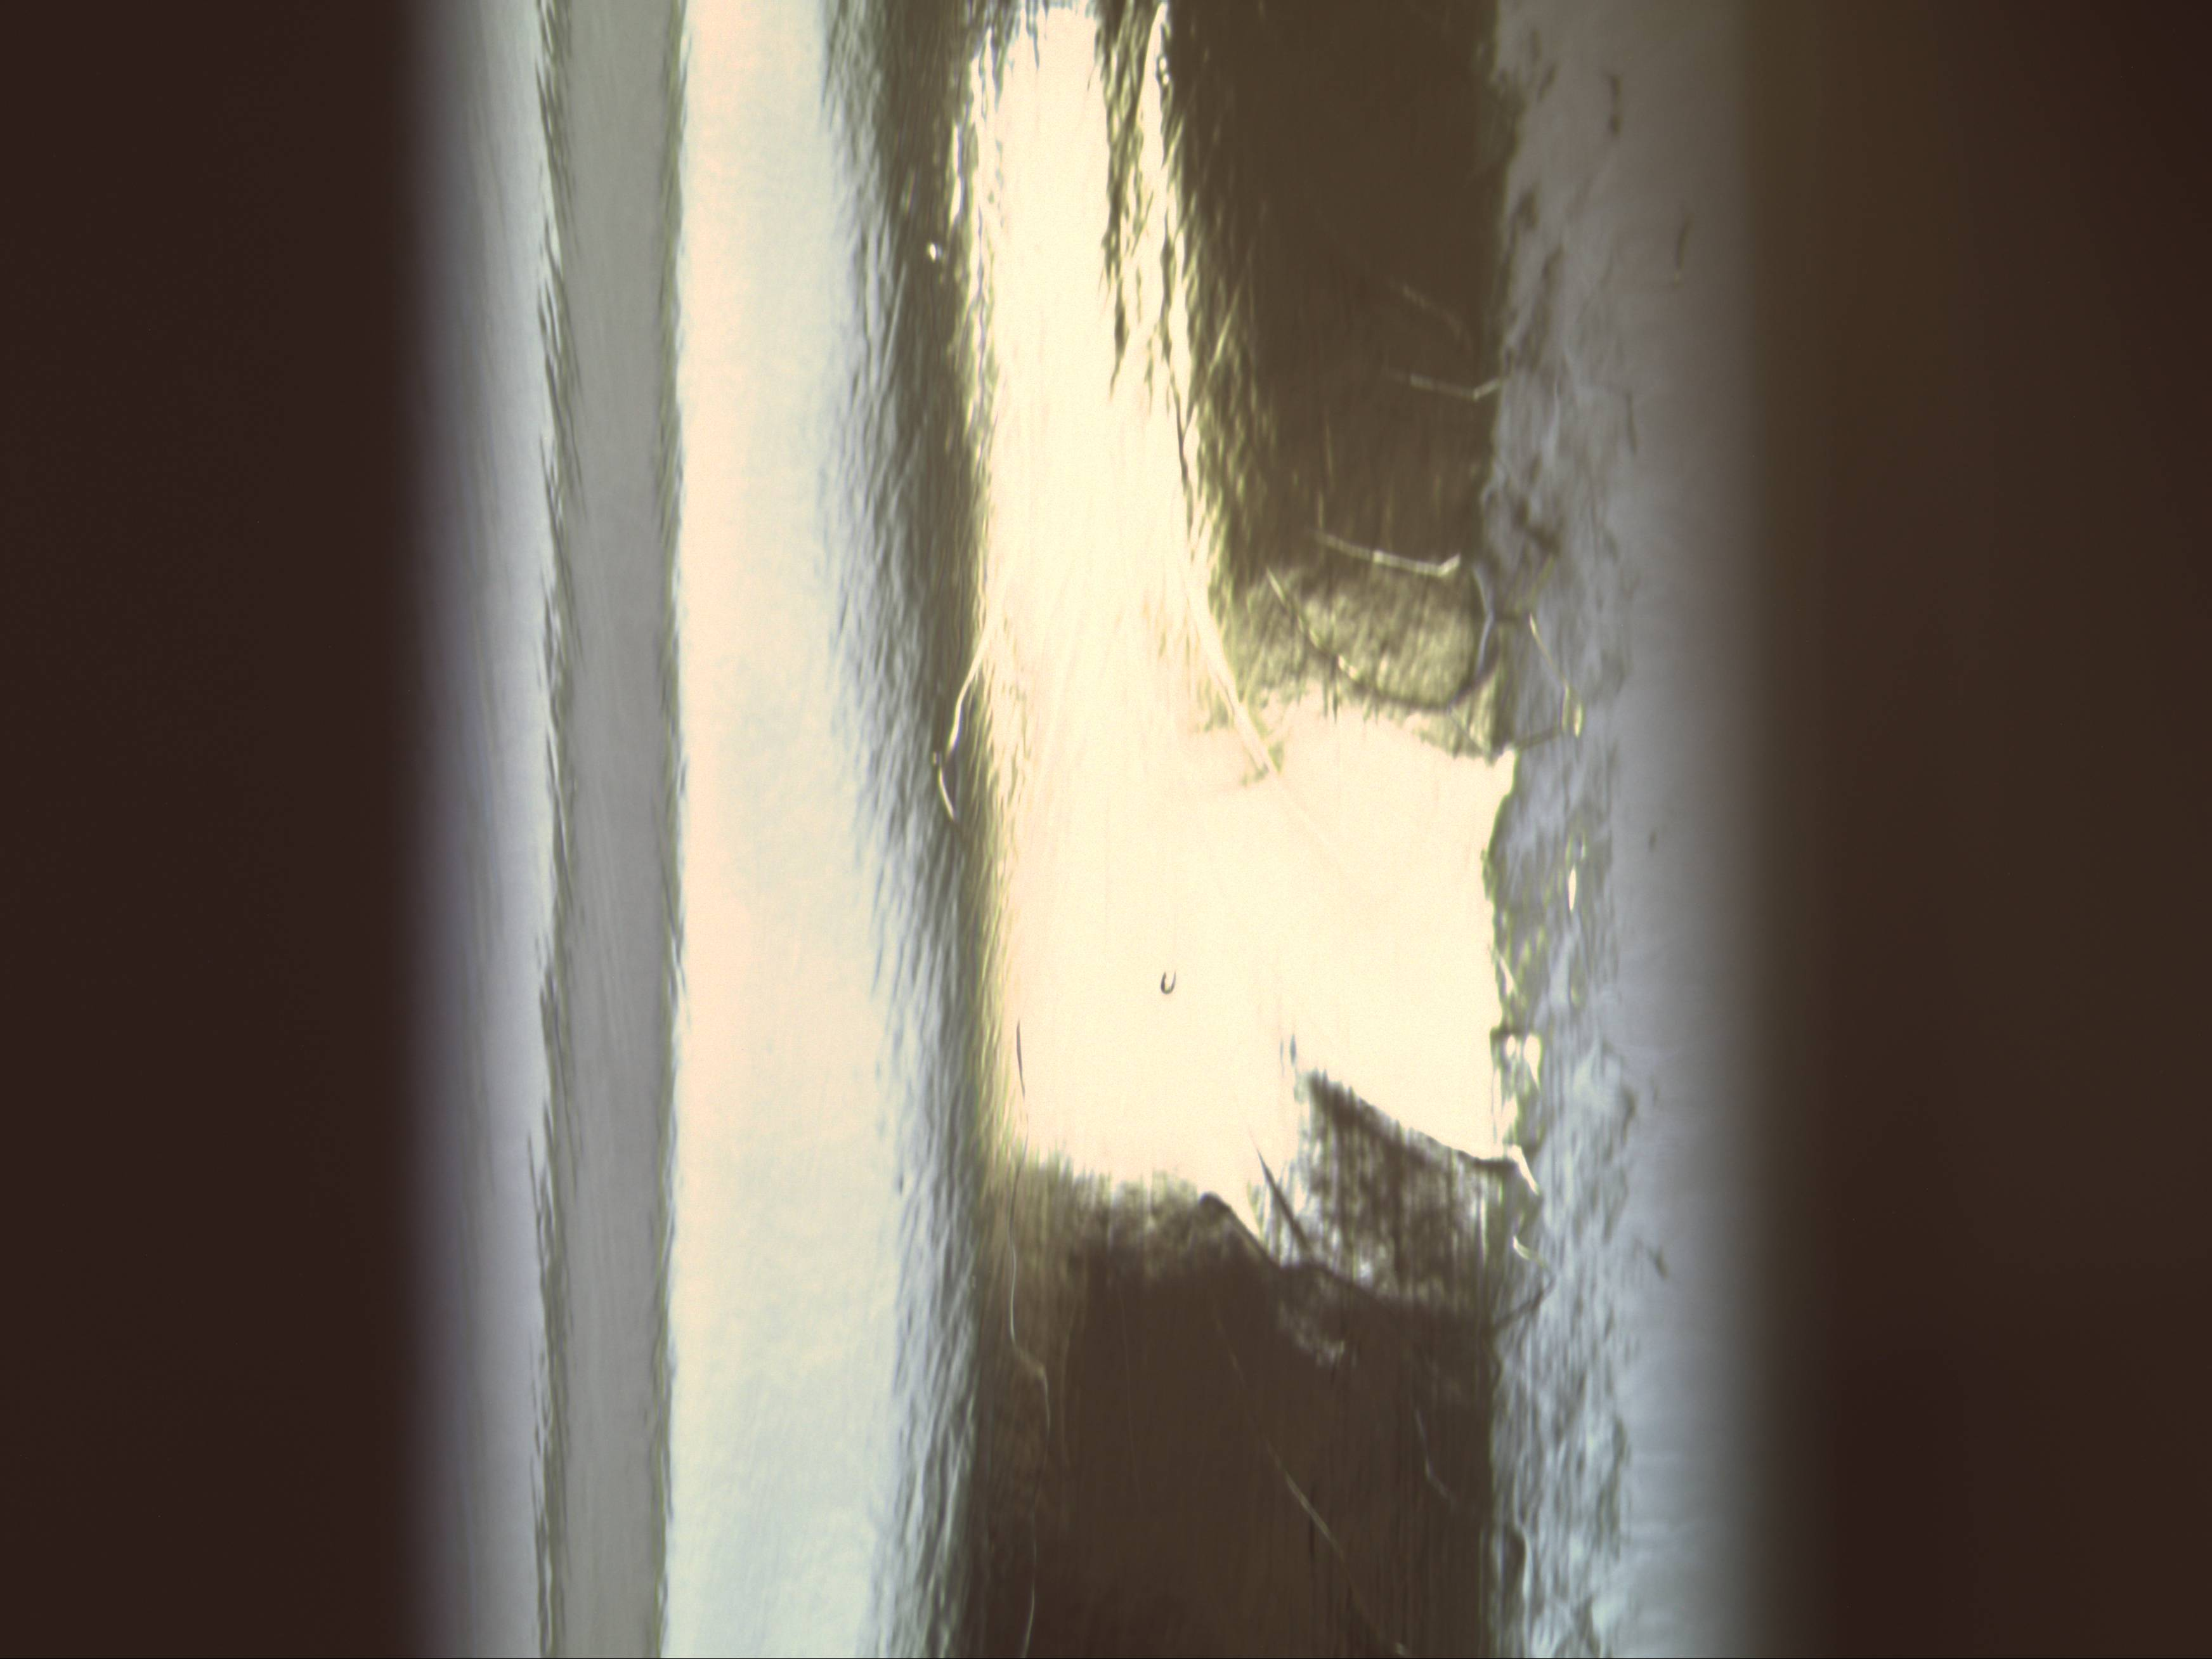defect: (1155, 958, 1184, 995)
